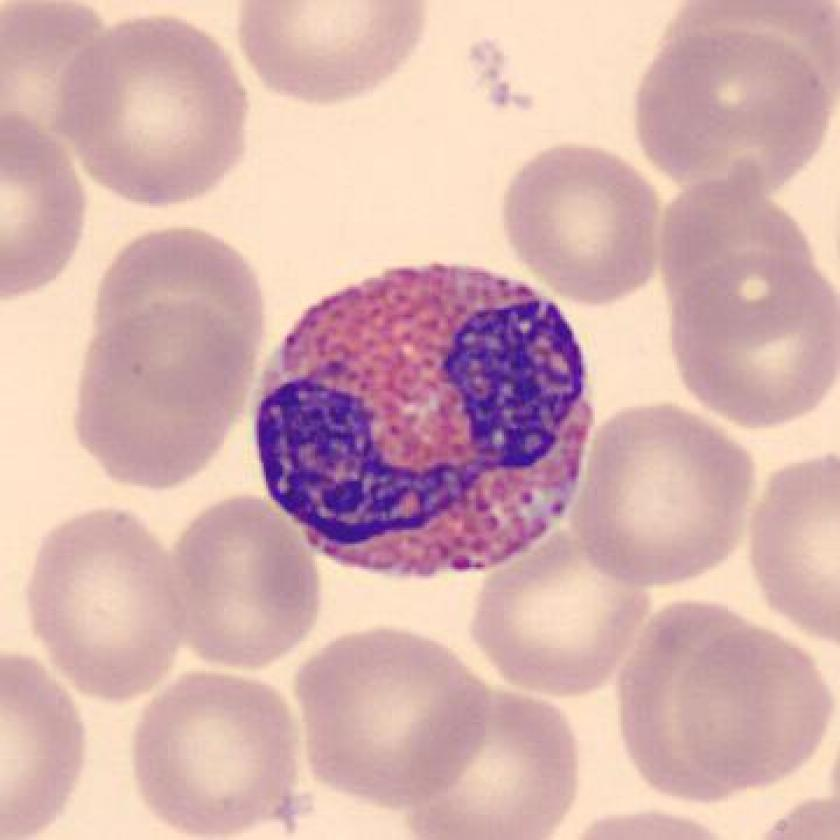eosinophil: (241, 246, 608, 591)
